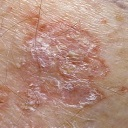Bowen: (26, 27, 106, 108)
